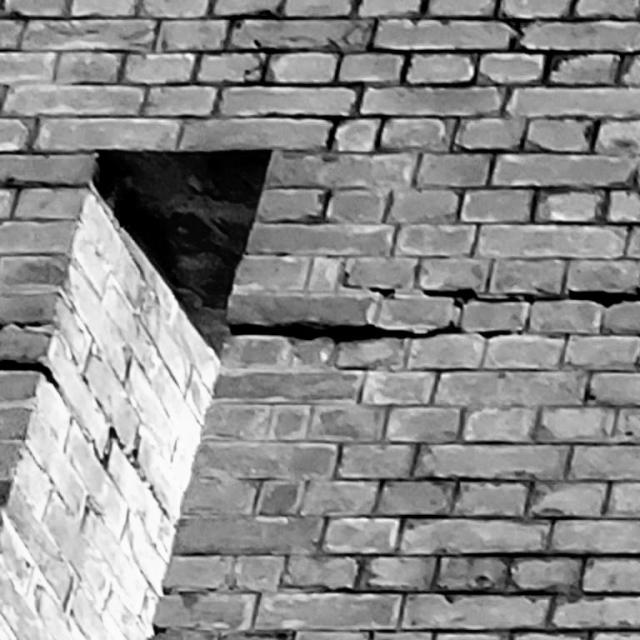crack: (340, 271, 639, 309), (229, 321, 511, 342), (1, 359, 58, 389)
